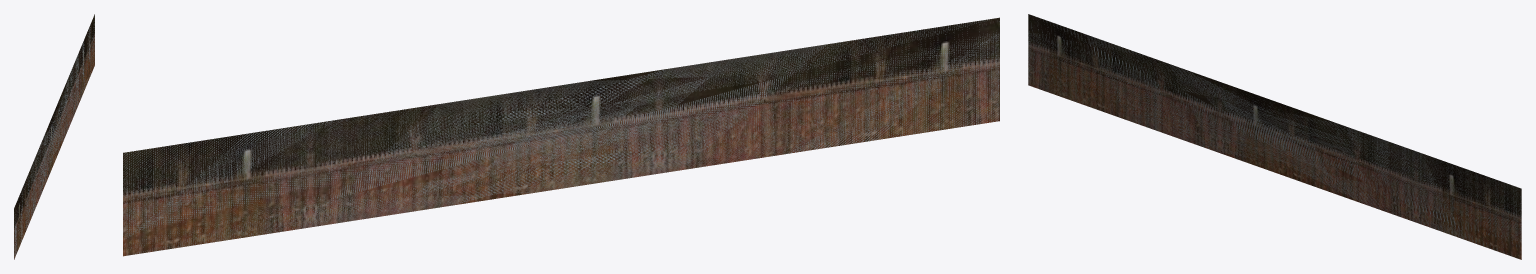
File: 西庸城堡728.dae
3 renders of one model, left to right at view 1: azimuth 30°, elevation 25°; view 2: azimuth 150°, elevation 25°; view 3: azimuth 270°, elevation 25°, orthographic. The views are drawn at different scales.
Parts seen in each view (by area): view 1: SketchUp; view 2: SketchUp; view 3: SketchUp.
Part boxes in pixels (x1=…): SketchUp: x1=14, y1=14, x2=94, y2=259; SketchUp: x1=123, y1=17, x2=999, y2=256; SketchUp: x1=1028, y1=14, x2=1521, y2=259.
Bounding box in the file's own units: 413 × 493 × 78.74.
